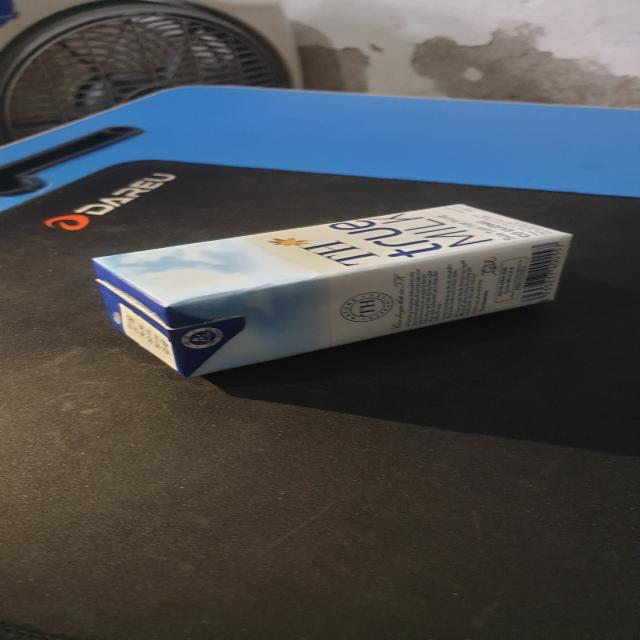TH: (86, 201, 583, 383)
